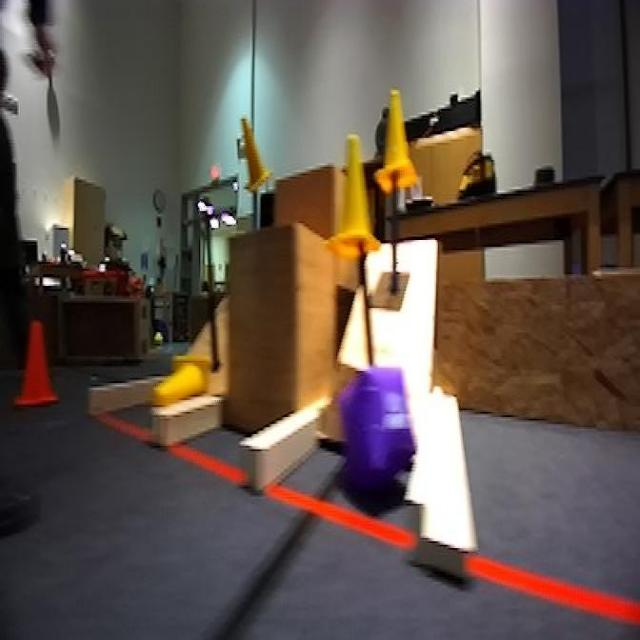frc_cone: (325, 121, 381, 259), (374, 89, 418, 194), (152, 359, 216, 410), (236, 114, 270, 189)
frc_cube: (338, 362, 417, 510)
